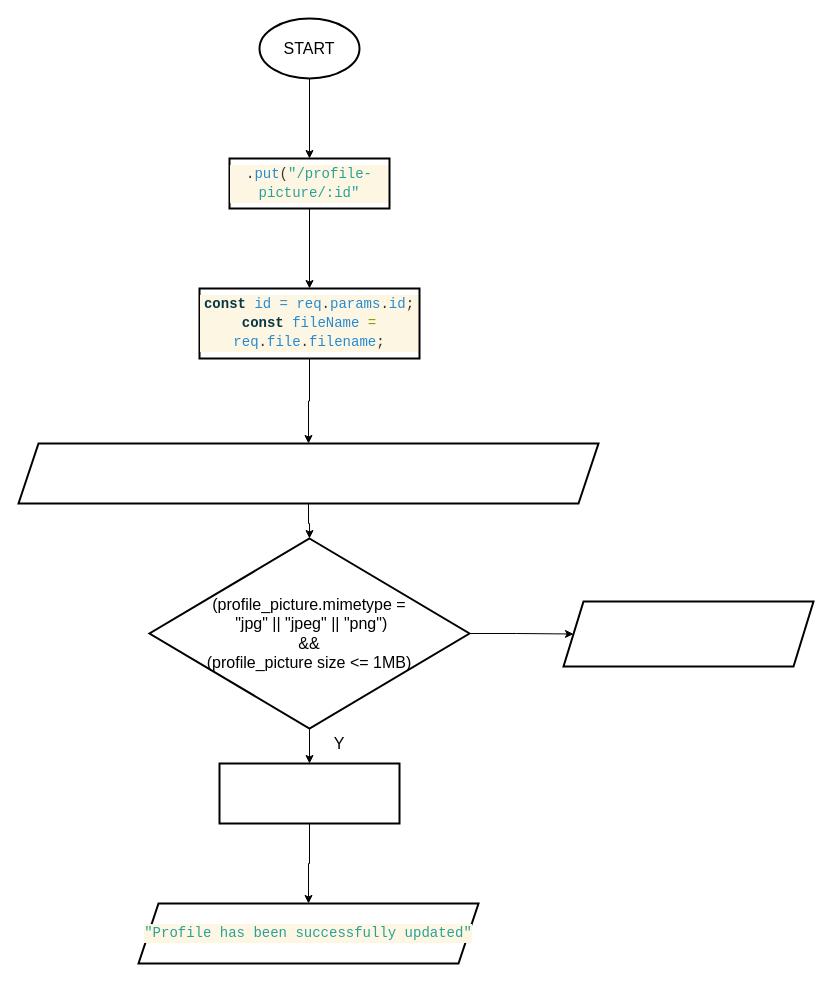
This 831x981 diagram has some shape labels left out. Here are the shapes that lost their labels. From the top down, the box of each, then its label:
(17, 442, 599, 504): dataUser = { profile_picture : `http://localhost:5000/file/ ${ fileName } `}
(562, 600, 814, 667): ERROR "CANNOT READ fileName"
(218, 762, 400, 824): UPDATE users SET profile_picture WHERE id
